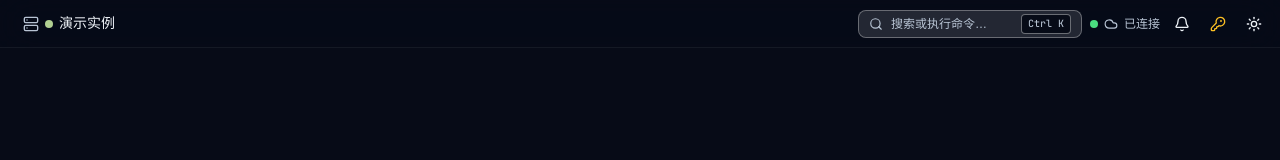
Test case: AppTopBar 实例名三态 › 多实例：仍给下拉，可切换实例
Click the button "演示实例" at (69, 24), box [12,10,126,38]
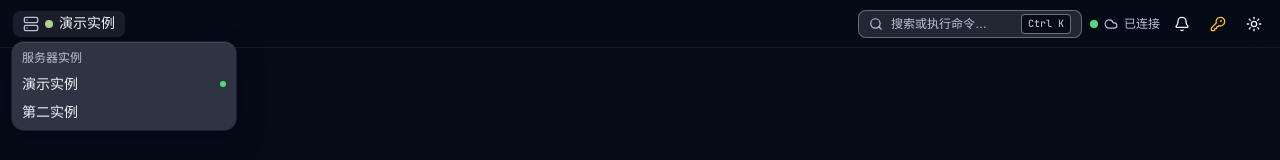
Now the menu item "第二实例" is shown, box [22,104,78,120]
